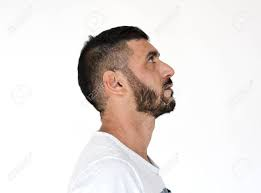middle_eastern_male: (116, 37, 181, 119)
